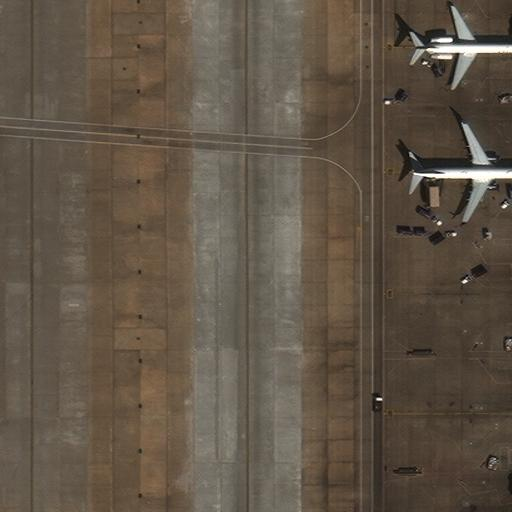Medium Civil Transport: (413, 121, 512, 222), (414, 6, 512, 89)
